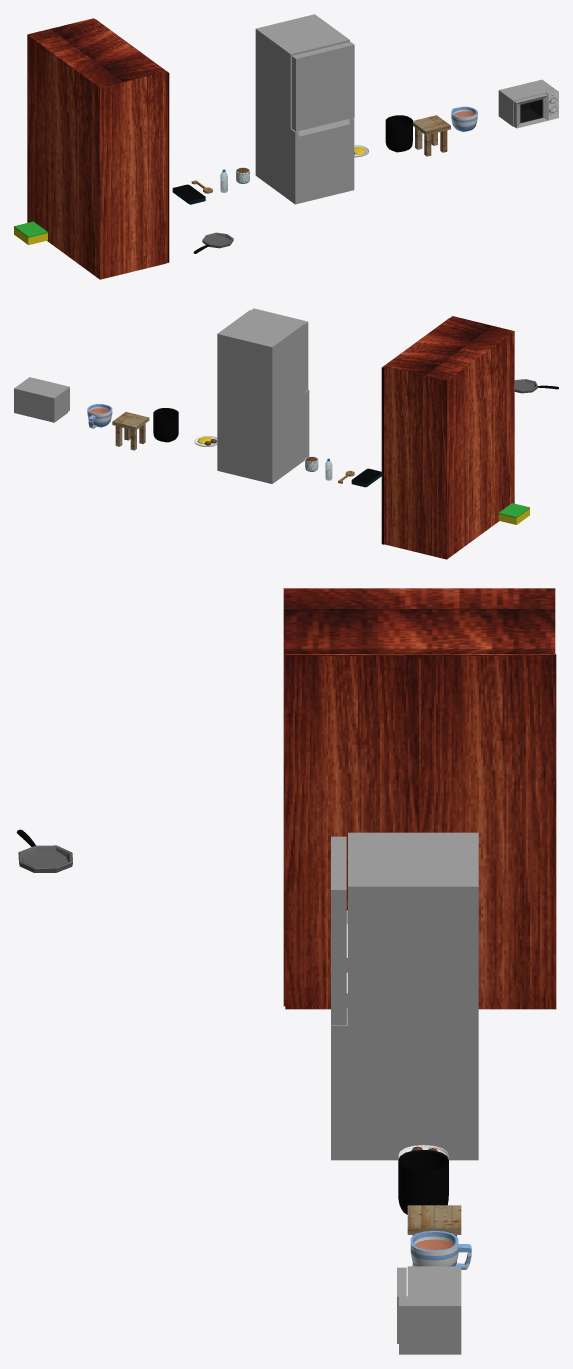
Rendered from квартира,объекты.fbx.
3 renders of one model, top to bottom at view 1: azimuth 30°, elevation 25°; view 2: azimuth 150°, elevation 25°; view 3: azimuth 270°, elevation 25°, orthographic. The views are drawn at different scales.
Visible parts, largest first — view 1: Cube.136, Cube.006, Cube.007, Cube.002, Cube.001, Cube.003, Cube.005, Cube.123, Cube, Cube.016, Cube.015, Cube.583; view 2: Cube.136, Cube.006, Cube.002, Cube.001, Cube.005, Cube.124, Cube, Cube.016, Cube.007, Cube.015; view 3: Cube.006, Cube.124, Cube.123, Cube.136, Cube.002, Cube.007, Cube.005, Cube, Cube.001, Cube.583.
Boxes of the visible parts, left/top/right/bottom form: Cube.136: left=27, top=18, right=166, bottom=279; Cube.006: left=255, top=14, right=354, bottom=204; Cube.007: left=292, top=41, right=354, bottom=131; Cube.002: left=498, top=79, right=558, bottom=126; Cube.001: left=413, top=115, right=450, bottom=156; Cube.003: left=514, top=93, right=548, bottom=128; Cube.005: left=385, top=115, right=412, bottom=152; Cube.123: left=133, top=47, right=169, bottom=262; Cube: left=451, top=106, right=477, bottom=131; Cube.016: left=14, top=221, right=47, bottom=244; Cube.015: left=172, top=184, right=205, bottom=204; Cube.583: left=202, top=232, right=233, bottom=248; Cube.136: left=384, top=316, right=514, bottom=559; Cube.006: left=217, top=310, right=309, bottom=483; Cube.002: left=14, top=377, right=67, bottom=422; Cube.001: left=112, top=412, right=149, bottom=450; Cube.005: left=153, top=408, right=178, bottom=442; Cube.124: left=381, top=342, right=415, bottom=544; Cube: left=87, top=404, right=112, bottom=428; Cube.016: left=498, top=503, right=529, bottom=524; Cube.007: left=251, top=308, right=308, bottom=391; Cube.015: left=351, top=468, right=381, bottom=487; Cube.006: left=331, top=832, right=478, bottom=1160; Cube.124: left=420, top=654, right=556, bottom=1009; Cube.123: left=285, top=654, right=419, bottom=1009; Cube.136: left=283, top=588, right=555, bottom=1006; Cube.002: left=399, top=1266, right=461, bottom=1354; Cube.007: left=331, top=836, right=347, bottom=1025; Cube.005: left=398, top=1150, right=448, bottom=1214; Cube: left=410, top=1230, right=471, bottom=1269; Cube.001: left=407, top=1205, right=461, bottom=1266; Cube.583: left=18, top=845, right=72, bottom=872.
Size of the model in its own units: 4256 by 1463 by 2000.
28 materials, 4 textured.
